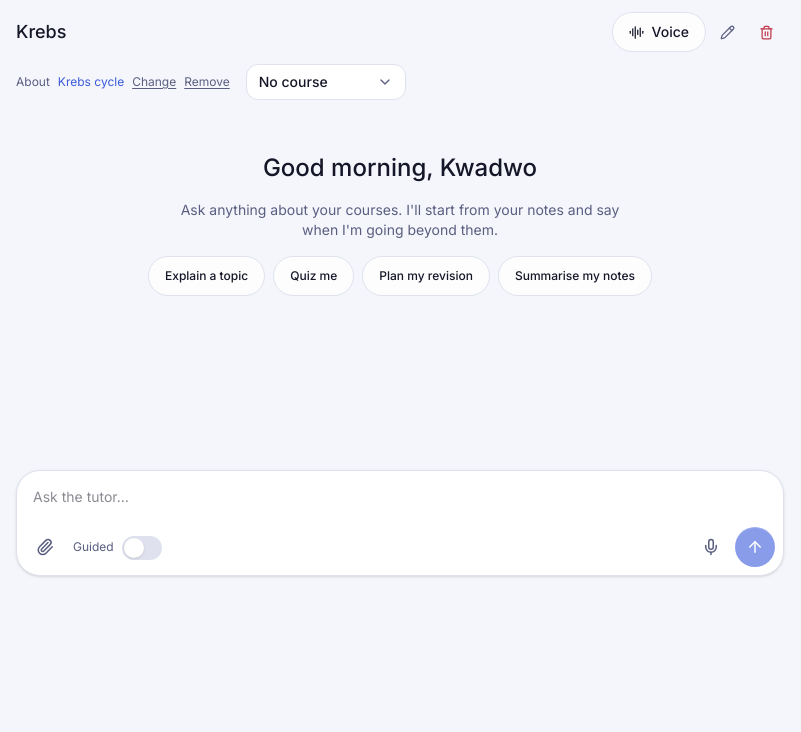
Test: renaming › says when it cannot save, and keeps the old name
Click the button named "Rename" at [728, 32], box [710, 14, 745, 50]
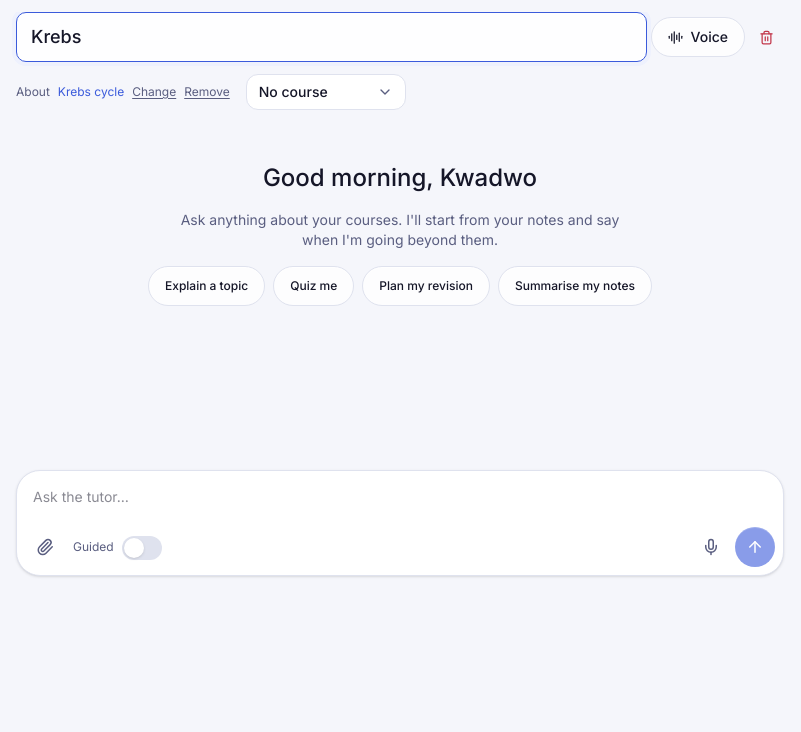
Replace the text in the field named "Chat name" with "New name" at [331, 37], box [16, 12, 646, 62]
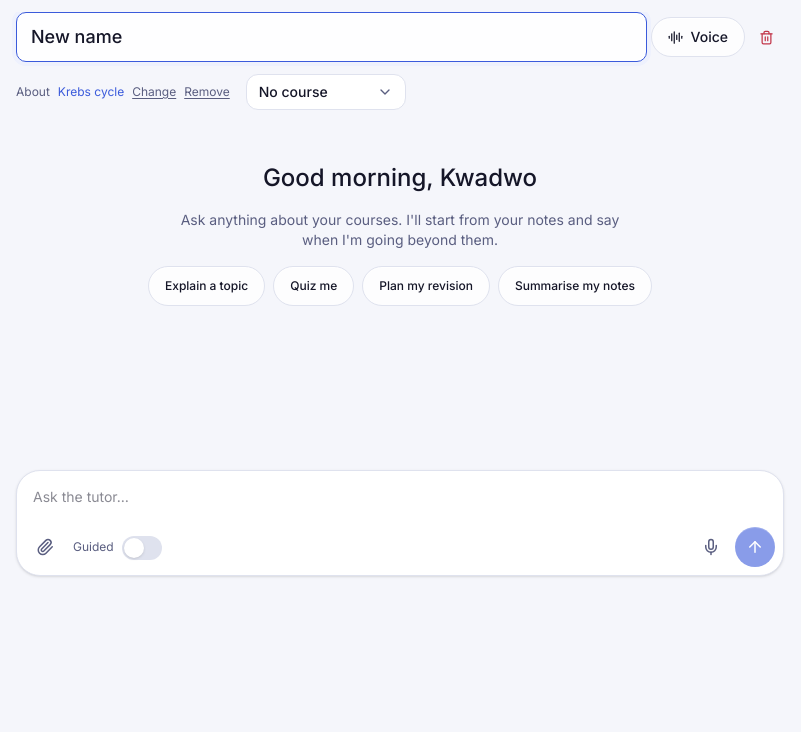
Press Enter in the field named "Chat name", box [16, 12, 646, 62]
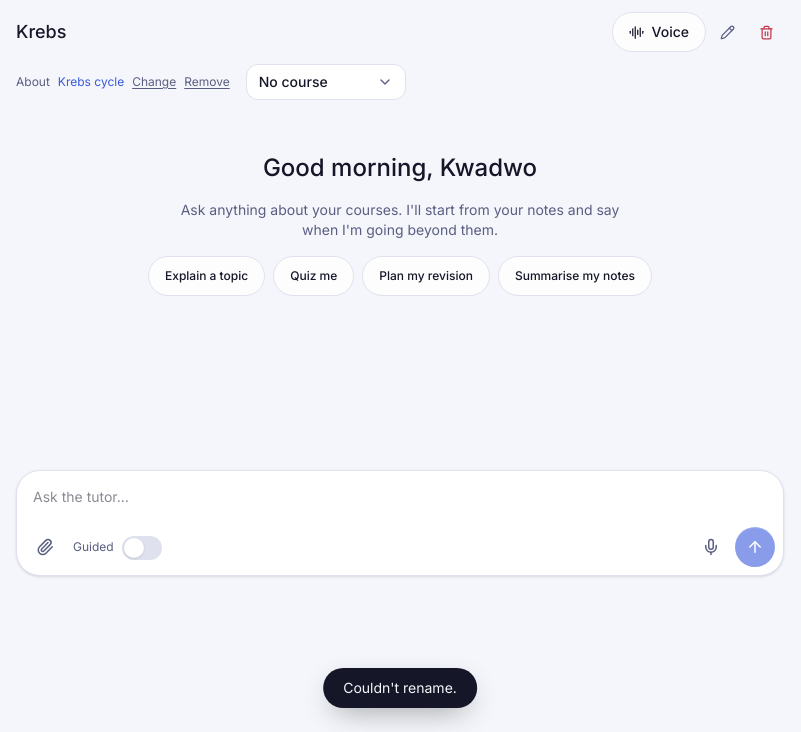
Result: the text "Couldn't rename." is shown at [323, 668, 477, 708]
Result: the heading "Krebs" is shown at [16, 18, 66, 46]
